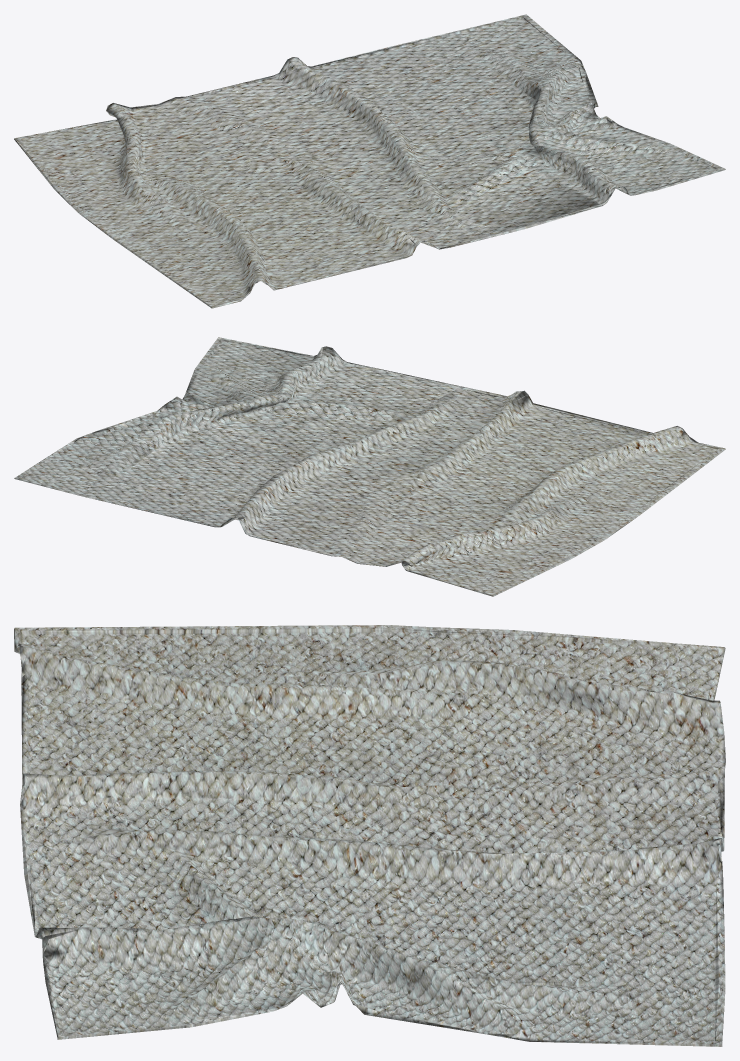
Rendered from Carpet.FBX.
3 views of the same model, one above another, from view 1: azimuth 30°, elevation 25°; view 2: azimuth 150°, elevation 25°; view 3: azimuth 270°, elevation 25° (orthographic). The views are drawn at different scales.
Parts seen in each view (by area): view 1: Carpet; view 2: Carpet; view 3: Carpet.
Part boxes in pixels (box(x1,y1,x2,y2)): Carpet: box(14, 14, 725, 308); Carpet: box(14, 337, 725, 596); Carpet: box(14, 625, 725, 1046).
Bounding box in the file's own units: 72.19 × 51.66 × 2.46.
1 material, 1 textured.
